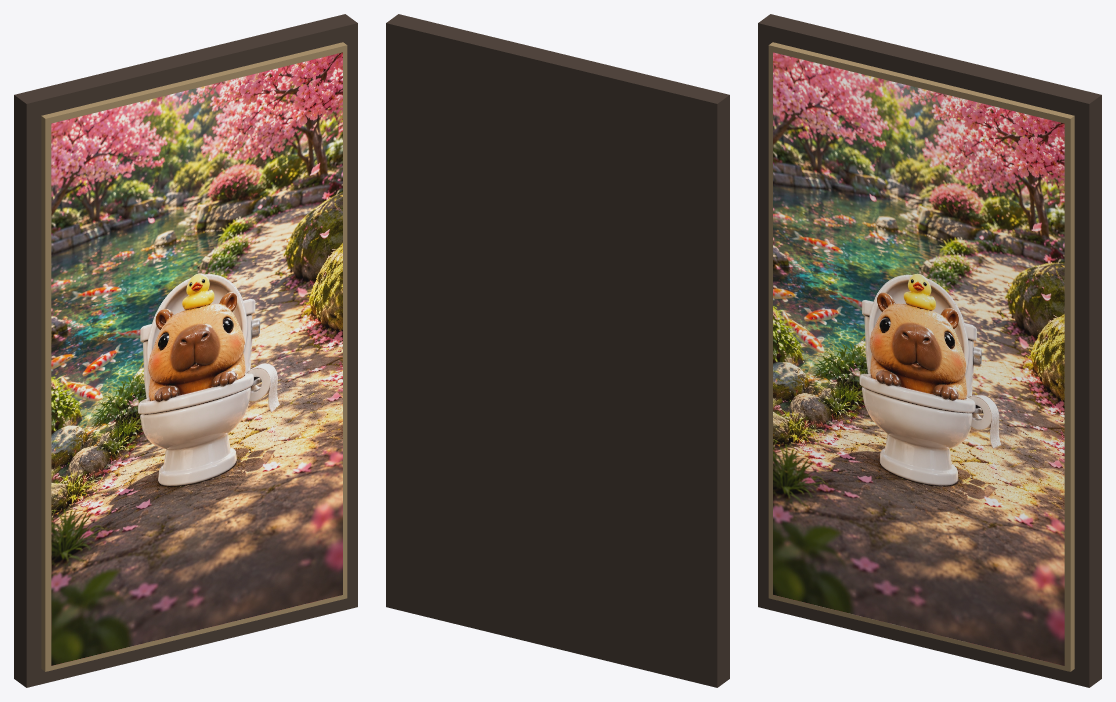
Rendered from painting_secret_capybara_toilet.glb.
3 views of the same model, side by side, from view 1: azimuth 30°, elevation 25°; view 2: azimuth 150°, elevation 25°; view 3: azimuth 330°, elevation 25° (orthographic).
Visible parts, largest first — view 1: Art, Solid joinery, Solid joinery.001; view 2: Solid joinery; view 3: Art, Solid joinery, Solid joinery.001.
Part boxes in pixels (<box>): Art: <box>51,52,342,665</box>; Solid joinery: <box>14,14,357,687</box>; Solid joinery.001: <box>41,42,347,671</box>; Solid joinery: <box>386,14,729,687</box>; Art: <box>773,52,1064,665</box>; Solid joinery: <box>758,14,1101,687</box>; Solid joinery.001: <box>768,42,1074,671</box>.
Bounding box in the file's own units: 0.4602 × 0.775 × 0.042.
Materials: 3 (1 with a texture image).
